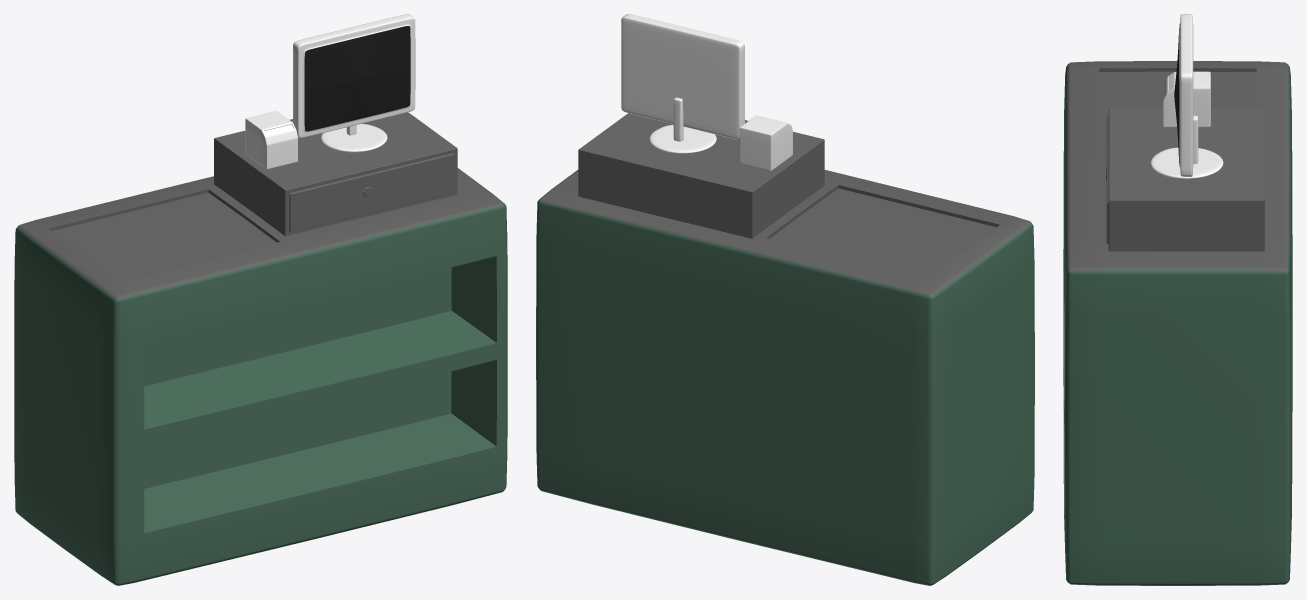
The model's file is desk_till.fbx.
3 renders of one model, left to right at view 1: azimuth 30°, elevation 25°; view 2: azimuth 150°, elevation 25°; view 3: azimuth 270°, elevation 25°, orthographic. The views are drawn at different scales.
Parts seen in each view (by area): view 1: polySurface6; view 2: polySurface6; view 3: polySurface6.
Boxes of the visible parts, x1,y1,x2,y2 form: polySurface6: (14,14,507,585); polySurface6: (536,14,1034,585); polySurface6: (1063,14,1292,585).
Size of the model in its own units: 10.06 by 10.86 by 4.58.
